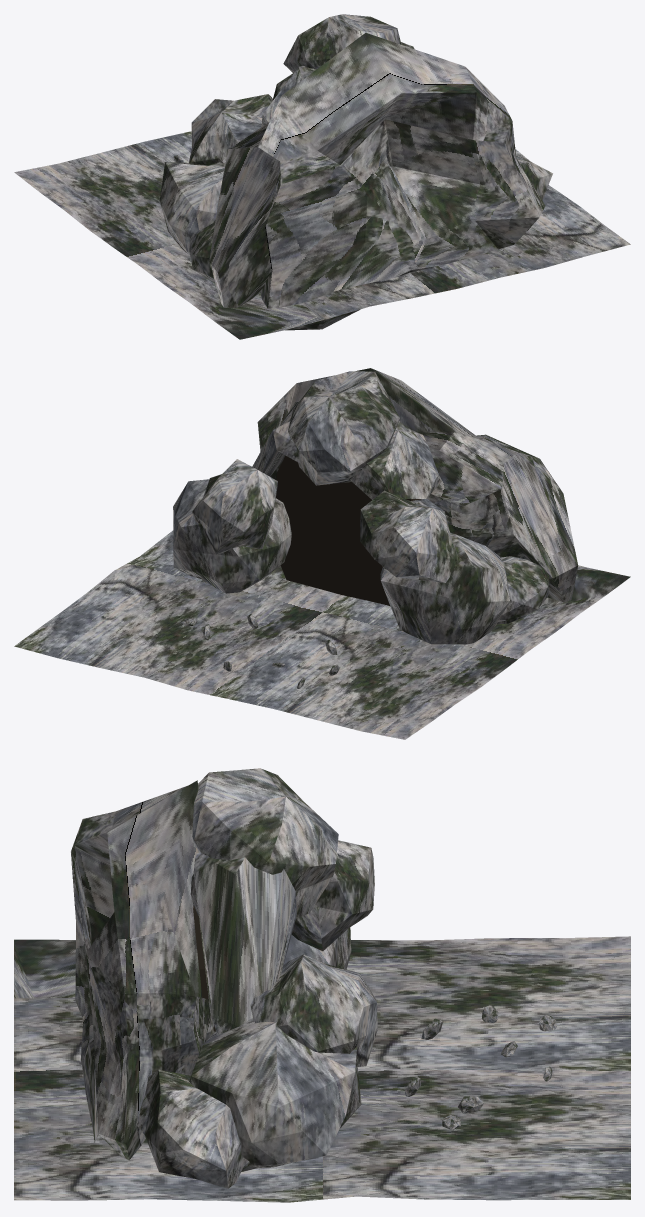
The model's file is cave_entrance.glb.
3 views of the same model, one above another, from view 1: azimuth 30°, elevation 25°; view 2: azimuth 150°, elevation 25°; view 3: azimuth 270°, elevation 25° (orthographic). The views are drawn at different scales.
Visible parts, largest first — view 1: CaveEntrance; view 2: CaveEntrance; view 3: CaveEntrance.
Boxes of the visible parts, x1,y1,x2,y2 form: CaveEntrance: (14, 14, 630, 339); CaveEntrance: (14, 368, 630, 739); CaveEntrance: (14, 768, 630, 1202).
Size of what is drawn, in the model's own units: 16 by 10.18 by 16.
Materials: 3 (2 with a texture image).
